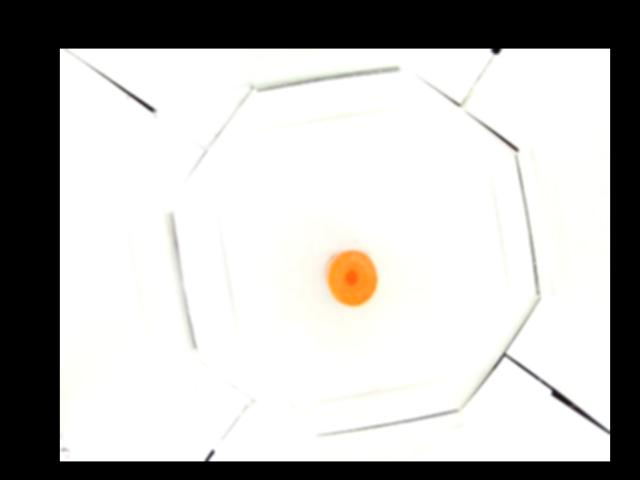Carrot: (327, 251, 378, 306)
